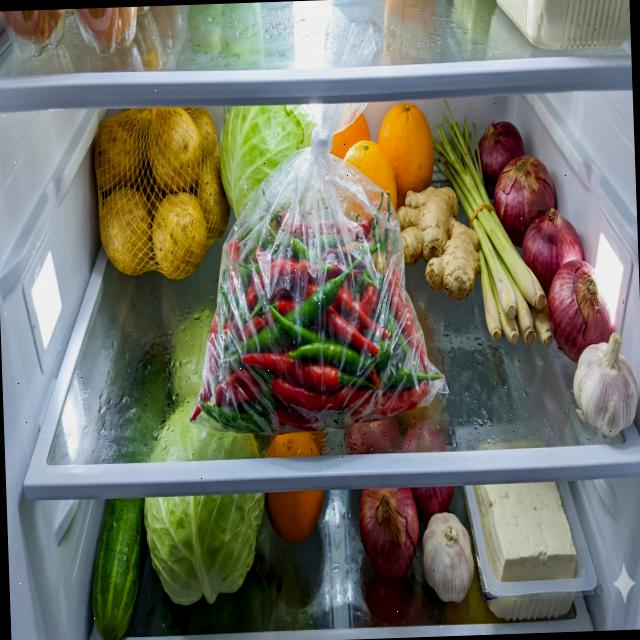cabbage: (140, 393, 268, 608), (218, 102, 320, 222)
chili: (182, 188, 446, 438)
cucumber: (89, 497, 150, 640)
garlic: (571, 331, 640, 438), (421, 510, 476, 604)
ginger: (395, 184, 482, 304)
lemongrass: (430, 94, 552, 350)
onion: (470, 116, 612, 366), (358, 484, 420, 580)
orange: (328, 102, 436, 216), (262, 430, 326, 544)
potato: (92, 104, 234, 283)
tofu: (474, 479, 576, 584)
